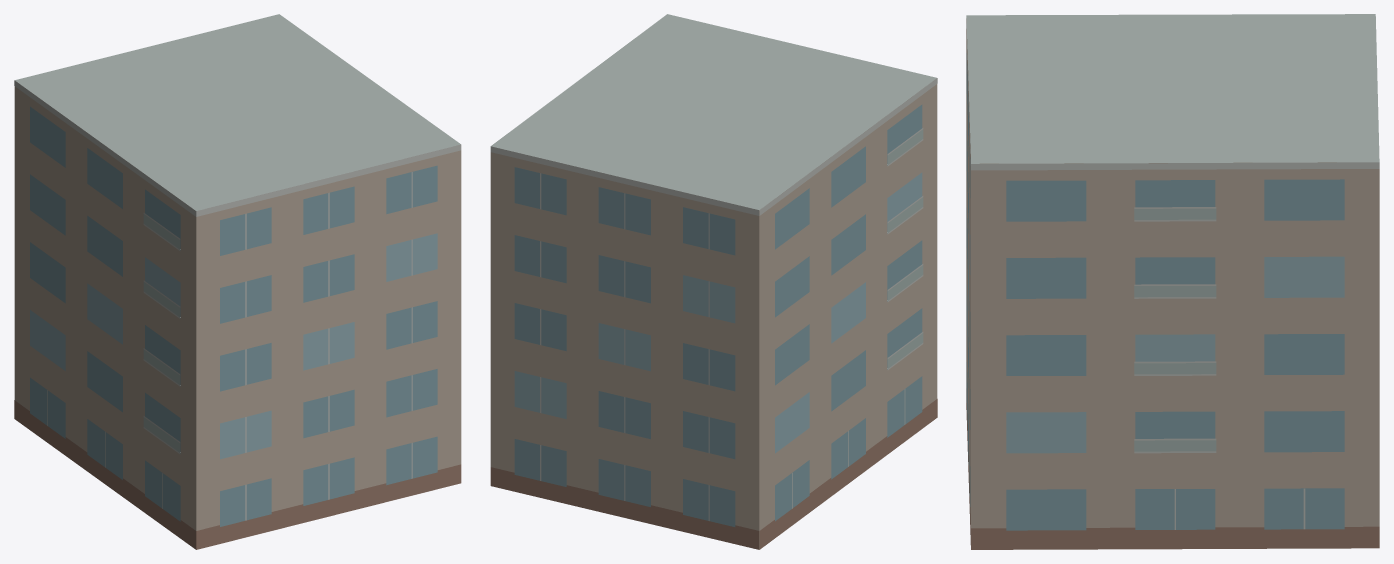
File: survey-upis-32832872.glb
3 views of the same model, side by side, from view 1: azimuth 30°, elevation 25°; view 2: azimuth 150°, elevation 25°; view 3: azimuth 270°, elevation 25° (orthographic). The views are drawn at different scales.
Parts seen in each view (by area): view 1: survey-upis-32832872.tmp; view 2: survey-upis-32832872.tmp; view 3: survey-upis-32832872.tmp.
Boxes of the visible parts, <box> form: survey-upis-32832872.tmp: <box>14,14,461,549</box>; survey-upis-32832872.tmp: <box>490,14,937,549</box>; survey-upis-32832872.tmp: <box>966,14,1379,549</box>.
Bounding box in the file's own units: 11.83 × 14.2 × 13.79.
